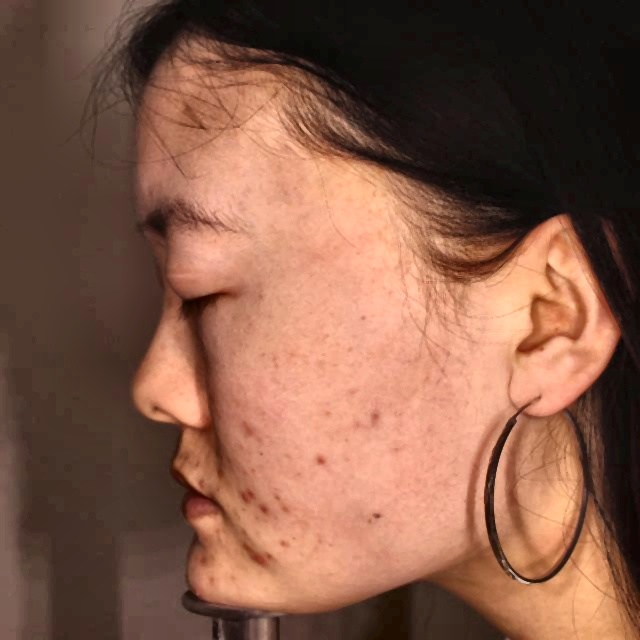pustule: (243, 540, 270, 567), (235, 417, 259, 441), (188, 578, 210, 602), (309, 452, 330, 469), (196, 550, 210, 567), (236, 484, 250, 498), (259, 500, 267, 518)
